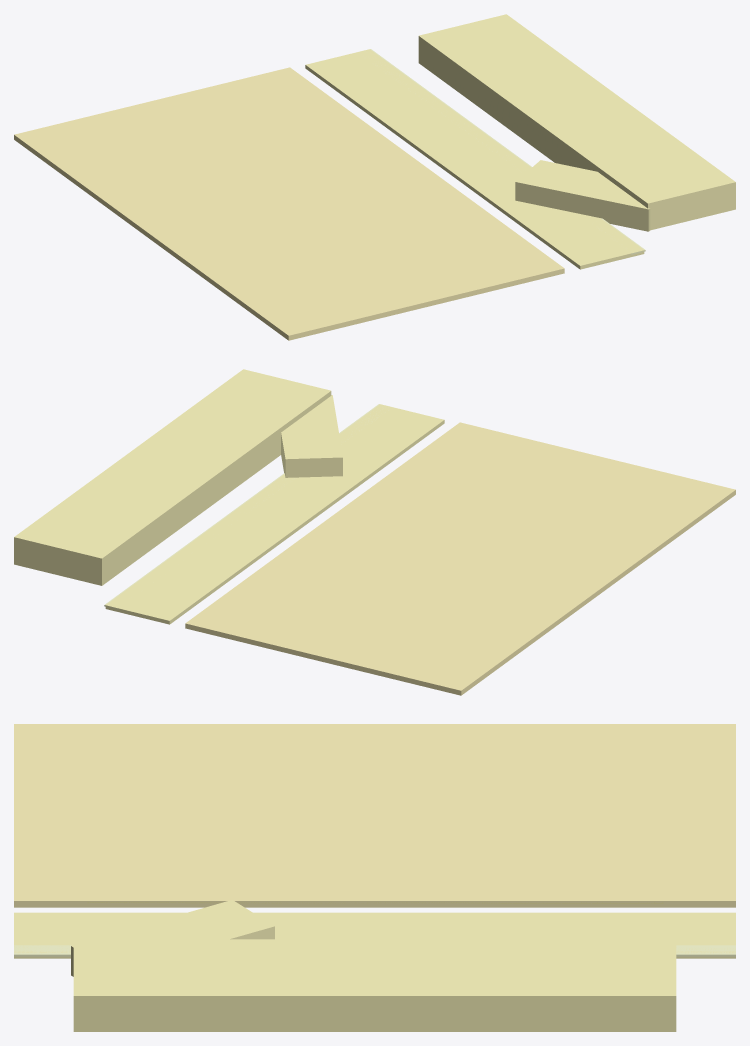
The model's file is road_barrier_taper_transition.glb.
3 renders of one model, top to bottom at view 1: azimuth 30°, elevation 25°; view 2: azimuth 150°, elevation 25°; view 3: azimuth 270°, elevation 25°, orthographic. The views are drawn at different scales.
Visible parts, largest first — view 1: travel_lane, barrier_base, shoulder_pad, barrier_nose; view 2: travel_lane, barrier_base, shoulder_pad, barrier_nose; view 3: travel_lane, barrier_base, shoulder_pad, barrier_nose, drain_slot.
Boxes of the visible parts, bbox=[...] form: travel_lane: bbox=[14, 67, 564, 340]; barrier_base: bbox=[418, 14, 735, 230]; shoulder_pad: bbox=[305, 49, 644, 269]; barrier_nose: bbox=[515, 160, 650, 231]; travel_lane: bbox=[185, 422, 735, 695]; barrier_base: bbox=[14, 369, 331, 585]; shoulder_pad: bbox=[105, 404, 444, 624]; barrier_nose: bbox=[281, 395, 342, 477]; travel_lane: bbox=[14, 724, 735, 907]; barrier_base: bbox=[73, 939, 676, 1031]; shoulder_pad: bbox=[14, 912, 735, 958]; barrier_nose: bbox=[71, 900, 274, 976]; drain_slot: bbox=[14, 945, 735, 956].
Bounding box in the file's own units: 3.95 × 0.22 × 4.
